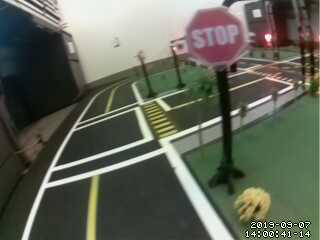Stop_Sign: (183, 4, 247, 66)
